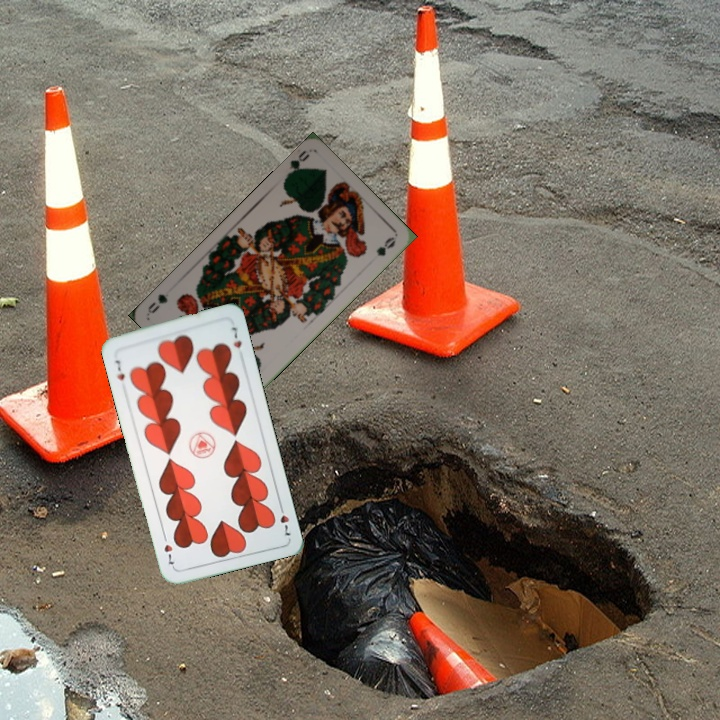GO: (281, 146, 312, 182)
H7: (275, 500, 293, 539), (111, 356, 127, 383)
